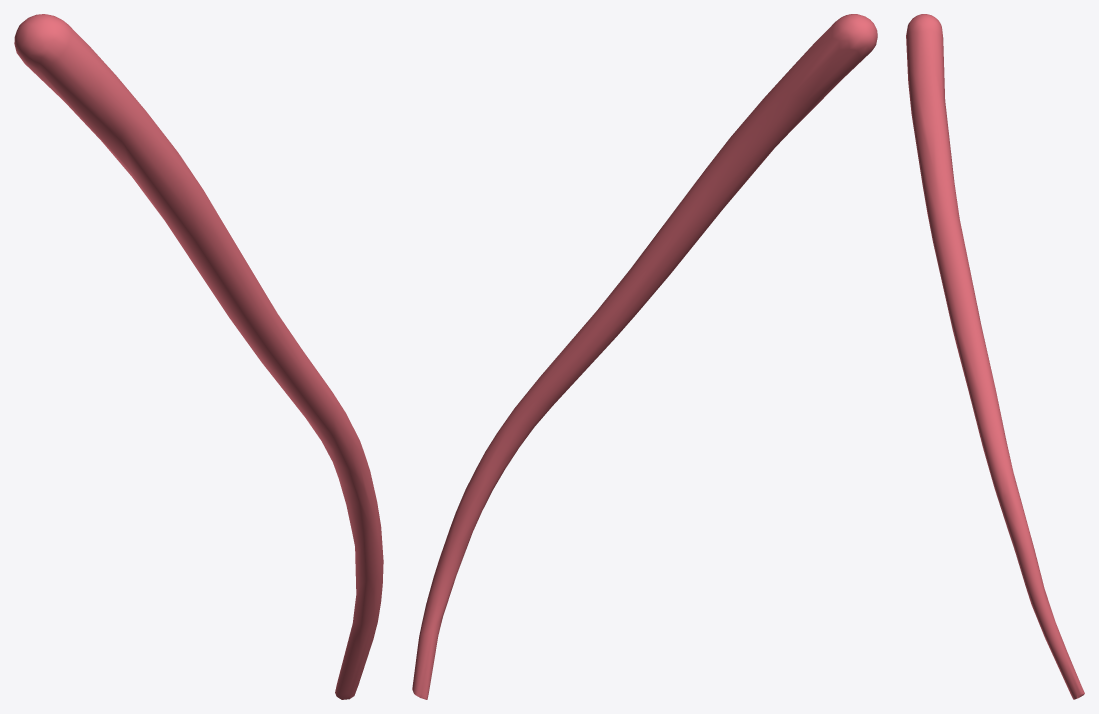
The model's file is fma13291_fj6020.glb.
3 renders of one model, left to right at view 1: azimuth 30°, elevation 25°; view 2: azimuth 150°, elevation 25°; view 3: azimuth 270°, elevation 25°, orthographic. The views are drawn at different scales.
Visible parts, largest first — view 1: FMA13291_FJ6020; view 2: FMA13291_FJ6020; view 3: FMA13291_FJ6020.
Boxes of the visible parts, <box> form: FMA13291_FJ6020: <box>14,14,383,699</box>; FMA13291_FJ6020: <box>412,14,877,699</box>; FMA13291_FJ6020: <box>906,14,1084,699</box>.
Bounding box in the file's own units: 0.0486 × 0.0877 × 0.0257.
